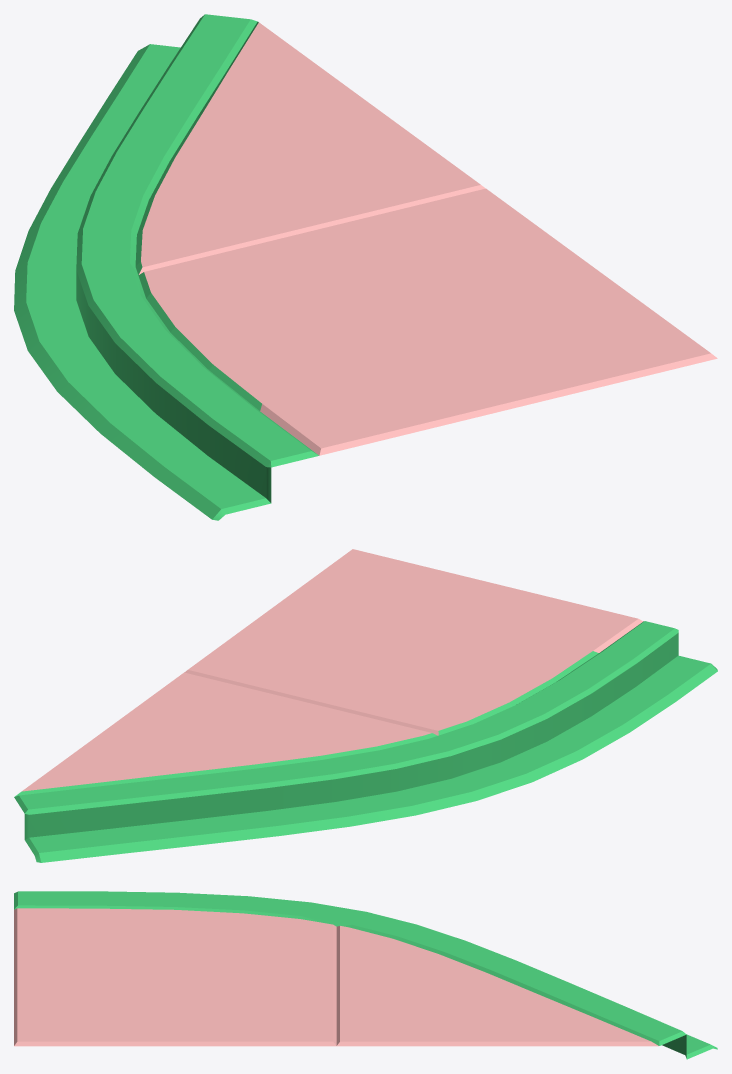
Rendered from mesh_Paving_Outer45Right_v1.3.fbx.
3 views of the same model, one above another, from view 1: azimuth 30°, elevation 25°; view 2: azimuth 150°, elevation 25°; view 3: azimuth 270°, elevation 25° (orthographic). The views are drawn at different scales.
Parts seen in each view (by area): view 1: mesh_Paving_Outer45Right; view 2: mesh_Paving_Outer45Right; view 3: mesh_Paving_Outer45Right.
Part boxes in pixels (x1,y1,x2,y2): mesh_Paving_Outer45Right: [14, 14, 717, 520]; mesh_Paving_Outer45Right: [14, 549, 717, 862]; mesh_Paving_Outer45Right: [14, 891, 717, 1059].
Size of the model in its own units: 126 by 10.83 by 218.
